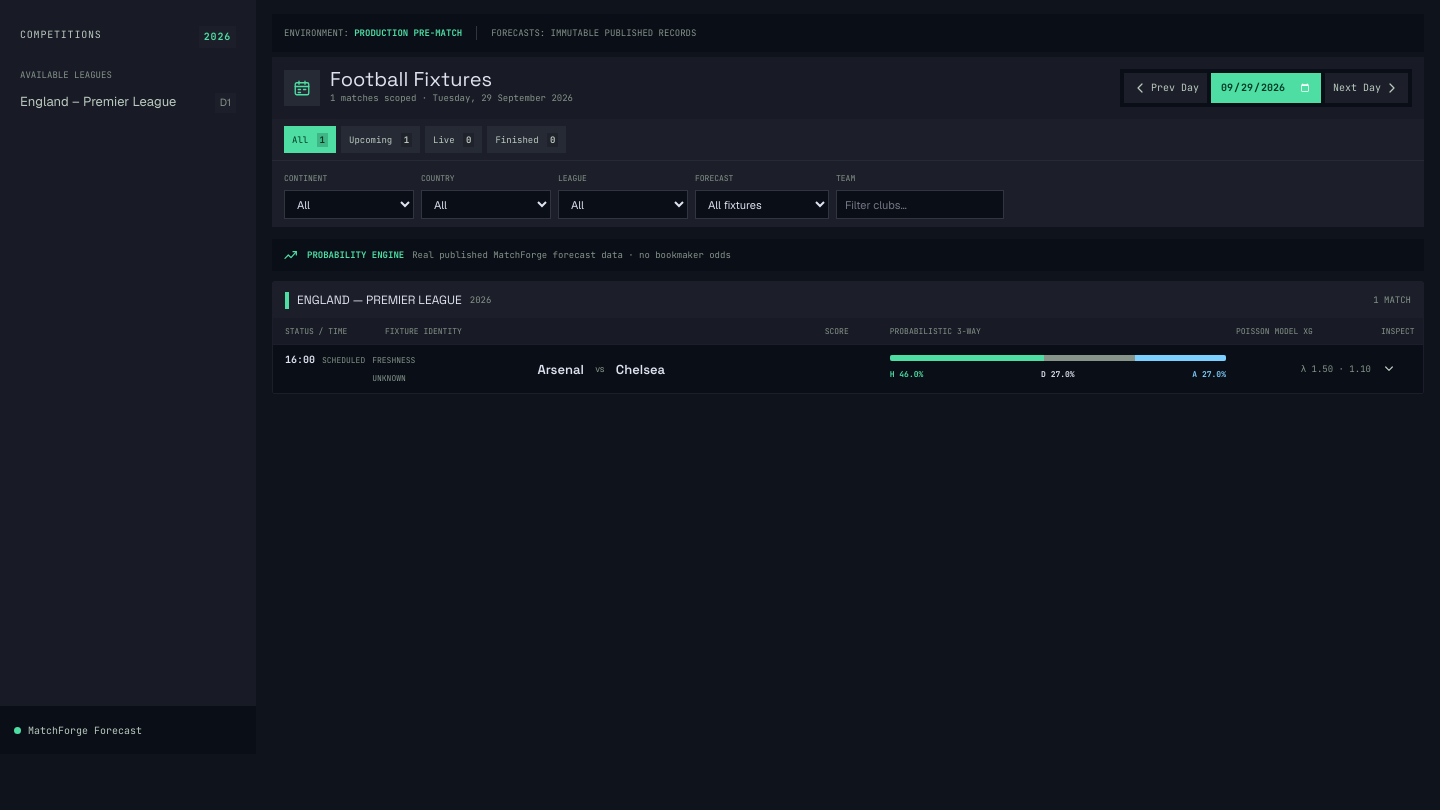
Test: FixtureExplorer › keeps the last valid day when the date input is cleared
This screenshot has width=1440, height=810.
Check: the button that starts with "SCHEDULED" is shown, box [273,345,1423,393]
Step 1. Clear the date field named "Selected date" → (1266,88), box [1211,73,1321,103]
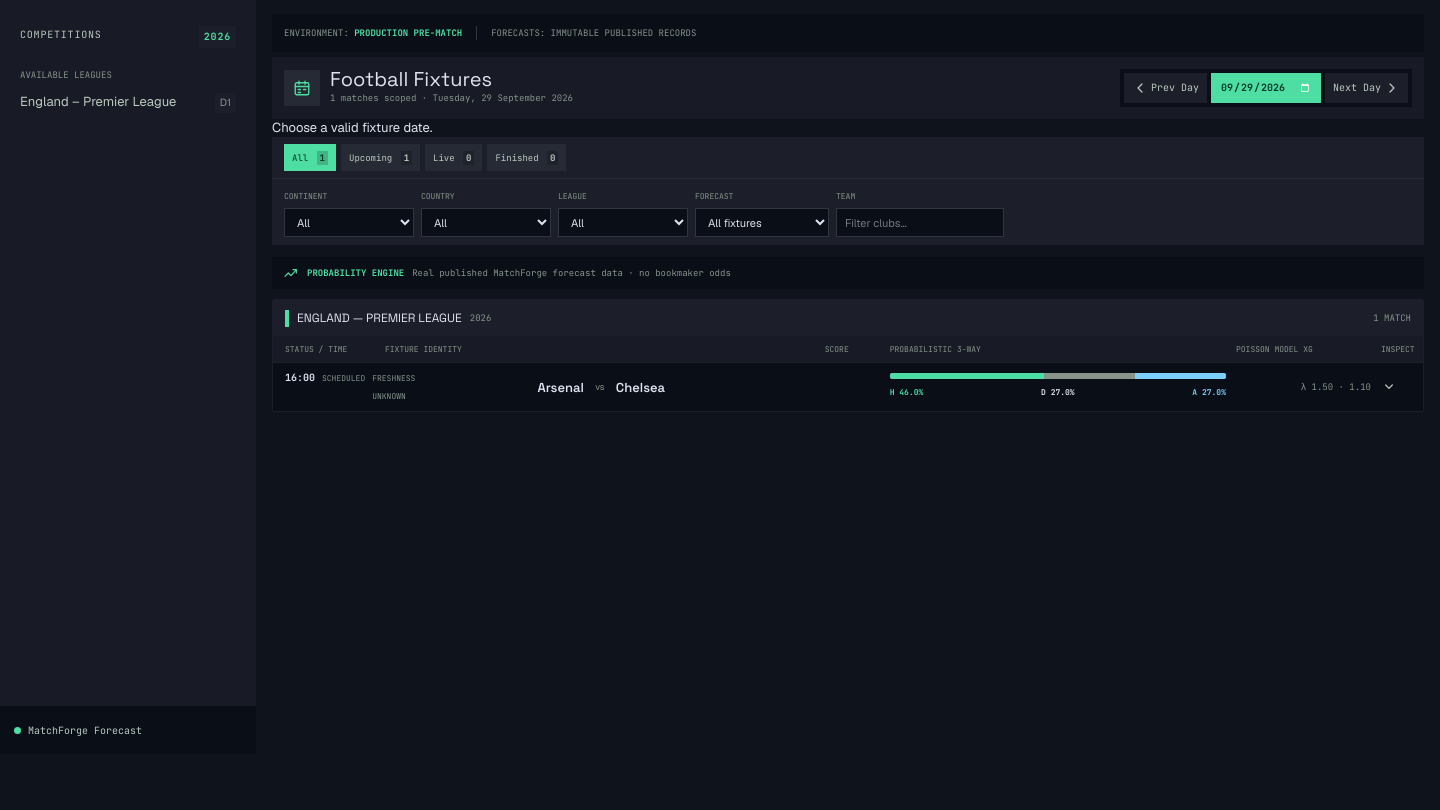
Check: the message shows "Choose a valid fixture date", box [272,119,432,136]
Step 2. Click the button "Next Day" → (1366,88), box [1325,73,1408,103]
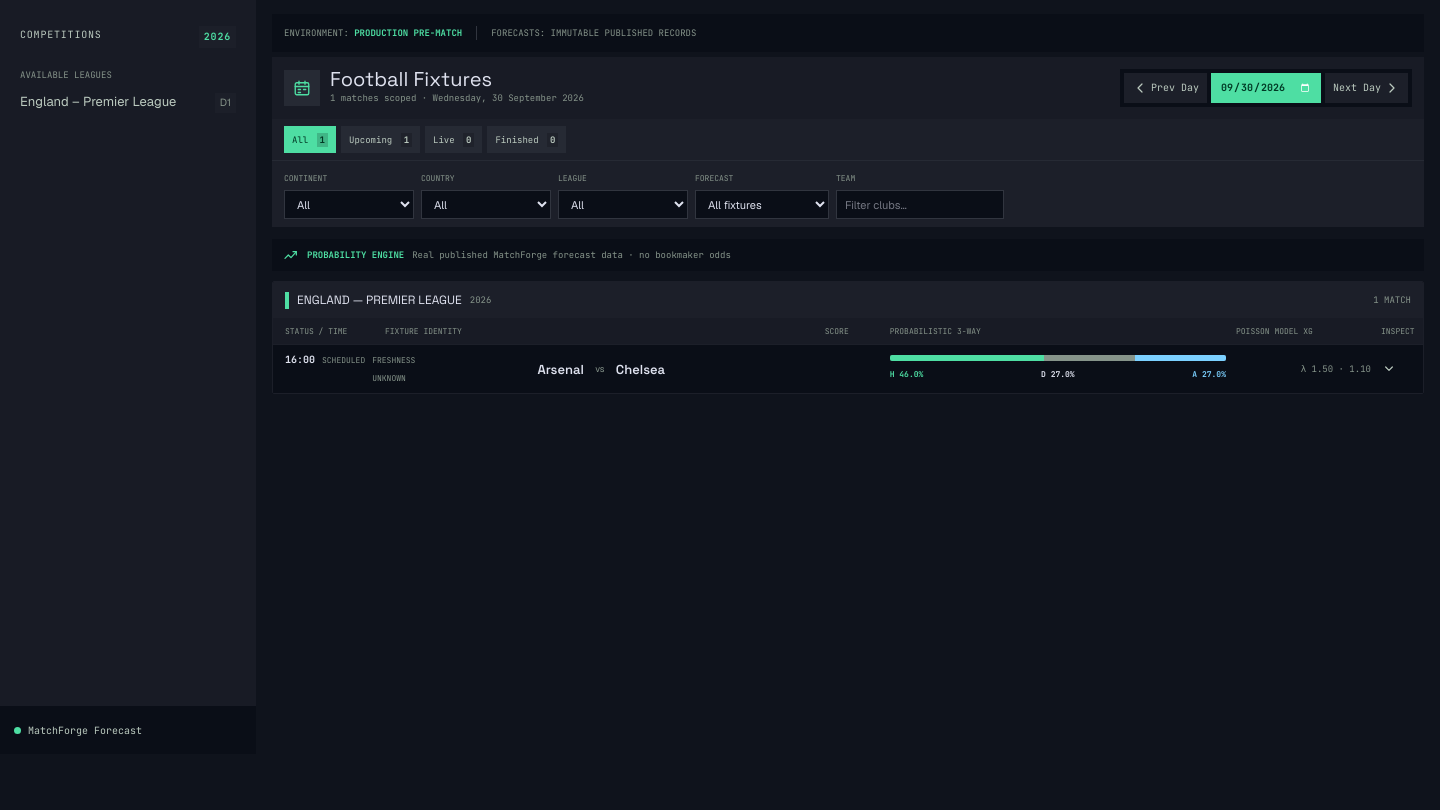
Check: the date field named "Selected date" holds "2026-09-30", box [1211,73,1321,103]
Check: the message "Choose a valid fixture date." is gone
